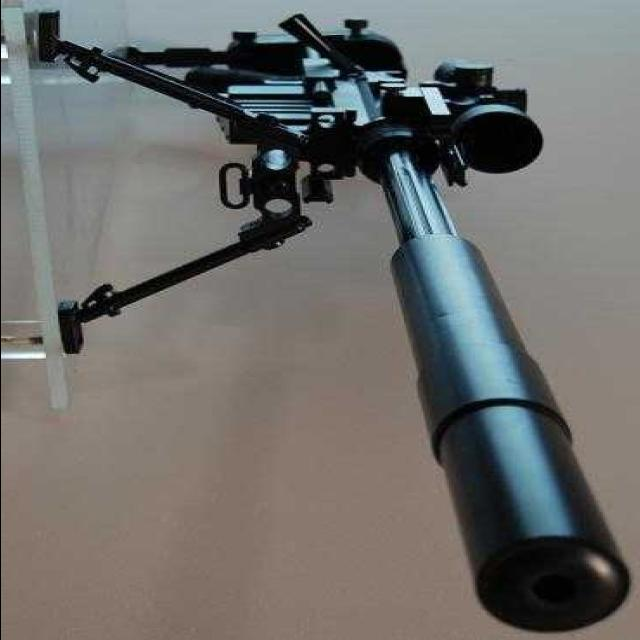heavyweapon: (113, 20, 640, 634)
